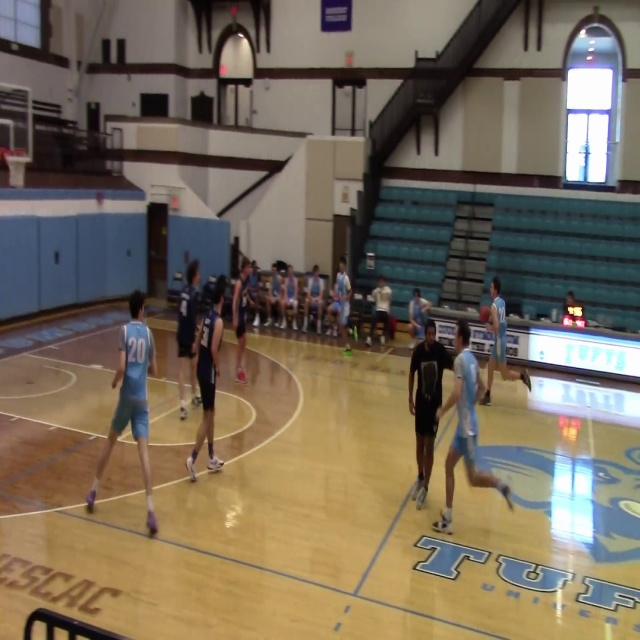Basketball: (479, 306, 490, 323)
